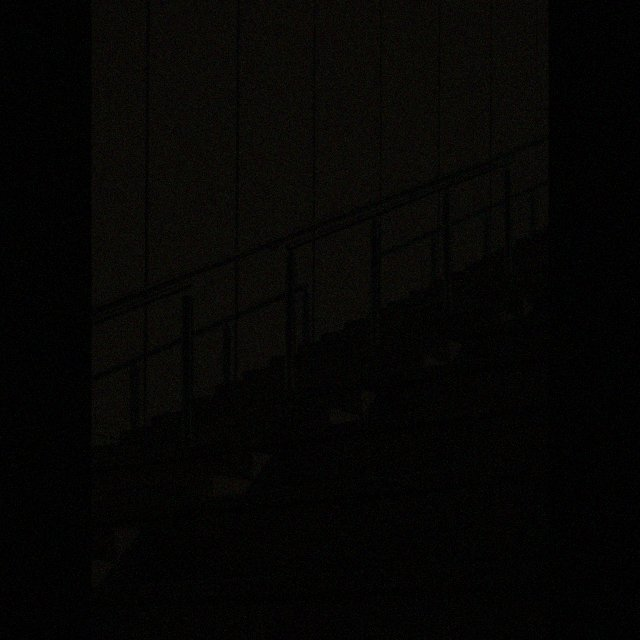stair: (90, 0, 549, 639)
